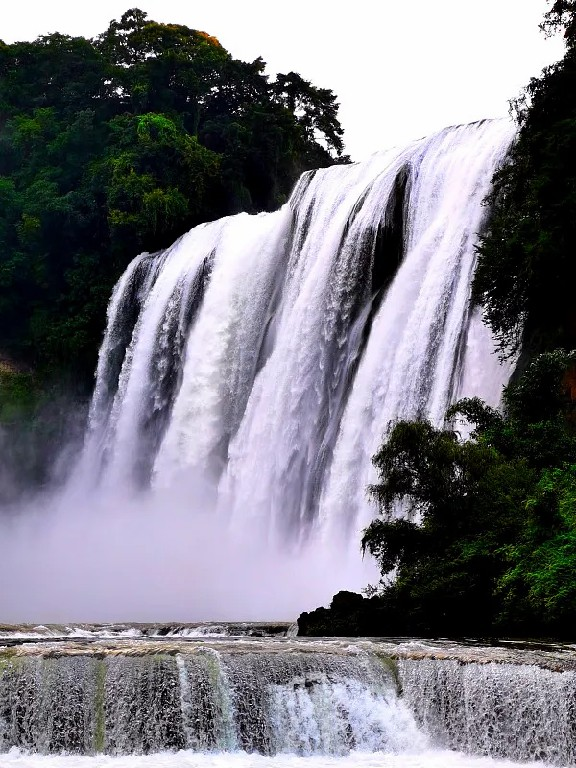Huangguoshu: (76, 118, 521, 607)
